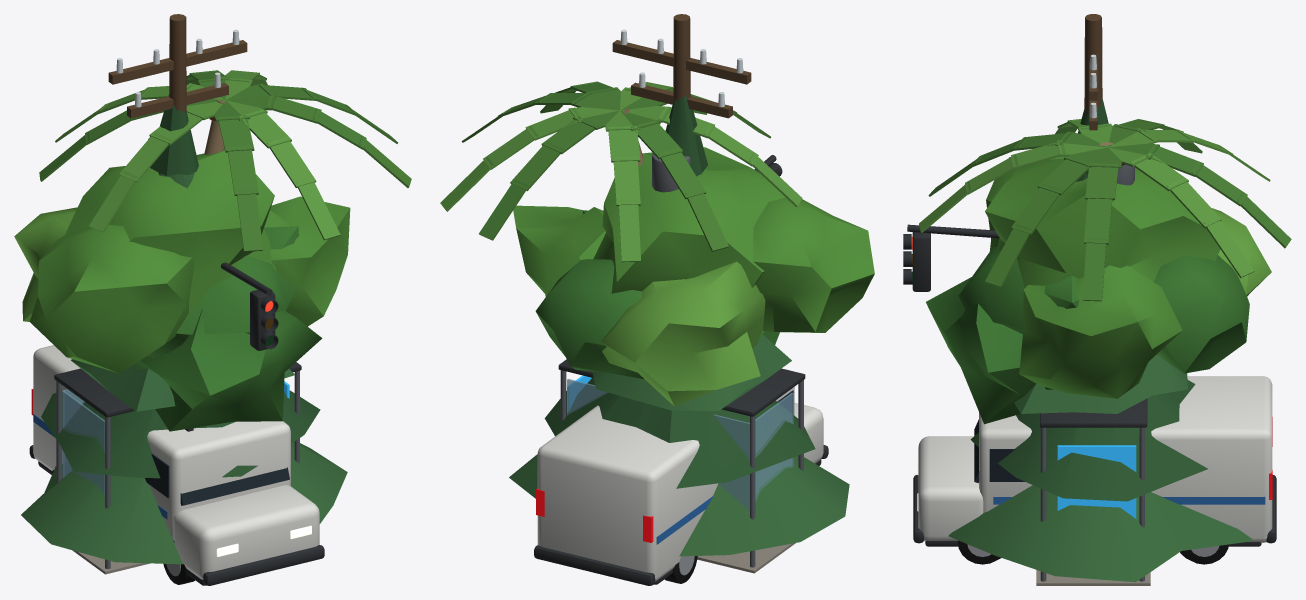
The model's file is props.glb.
The picture shows the model from 3 angles, left to right: view 1: azimuth 30°, elevation 25°; view 2: azimuth 150°, elevation 25°; view 3: azimuth 270°, elevation 25°; orthographic projection.
Parts seen in each view (by area): view 1: OakTree, PineTree, Van, PalmTree, BusStop, PowerPole, TrafficLight; view 2: OakTree, PineTree, Van, PalmTree, BusStop, PowerPole; view 3: OakTree, PineTree, Van, PalmTree, BusStop, PowerPole, TrafficLight.
Boxes of the visible parts, left/top/right/bottom form: OakTree: left=14, top=150, right=350, bottom=431; PineTree: left=21, top=94, right=347, bottom=564; Van: left=29, top=345, right=324, bottom=585; PalmTree: left=39, top=70, right=411, bottom=251; BusStop: left=54, top=362, right=301, bottom=574; PowerPole: left=108, top=14, right=247, bottom=139; TrafficLight: left=221, top=262, right=278, bottom=350; OakTree: left=513, top=147, right=874, bottom=406; PineTree: left=509, top=96, right=849, bottom=556; Van: left=534, top=387, right=828, bottom=585; PalmTree: left=440, top=81, right=802, bottom=262; BusStop: left=558, top=359, right=805, bottom=573; PowerPole: left=612, top=14, right=751, bottom=192; OakTree: left=926, top=156, right=1271, bottom=424; PineTree: left=948, top=98, right=1251, bottom=582; Van: left=913, top=376, right=1276, bottom=564; PalmTree: left=919, top=119, right=1291, bottom=301; BusStop: left=1036, top=398, right=1150, bottom=585; PowerPole: left=1084, top=14, right=1134, bottom=185; TrafficLight: left=903, top=224, right=999, bottom=291.
Size of the model in its own units: 6.2 by 8.23 by 5.43.
